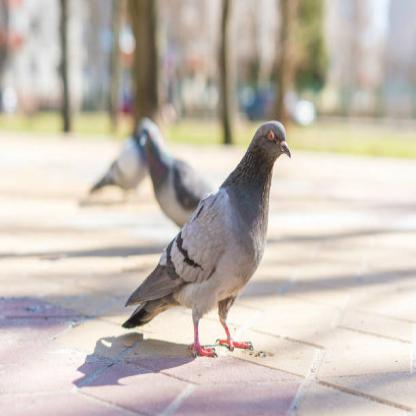Flying Rat: (139, 121, 301, 373)
